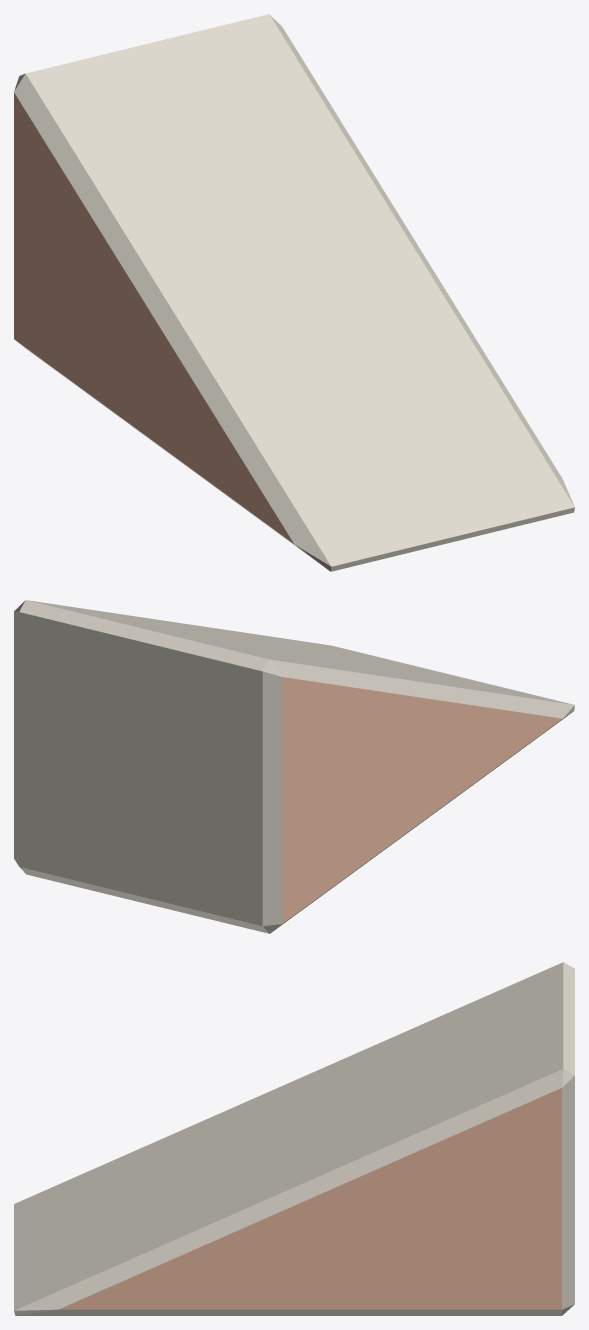
Rendered from R4B_LongWedge_LOD1.fbx.
3 renders of one model, top to bottom at view 1: azimuth 30°, elevation 25°; view 2: azimuth 150°, elevation 25°; view 3: azimuth 270°, elevation 25°, orthographic. The views are drawn at different scales.
Parts seen in each view (by area): view 1: R4B_LongWedge_LOD1; view 2: R4B_LongWedge_LOD1; view 3: R4B_LongWedge_LOD1.
Boxes of the visible parts, x1,y1,x2,y2 form: R4B_LongWedge_LOD1: [14, 14, 574, 571]; R4B_LongWedge_LOD1: [14, 600, 574, 933]; R4B_LongWedge_LOD1: [14, 962, 574, 1315].
Bounding box in the file's own units: 0.52 × 0.5095 × 1.05.
